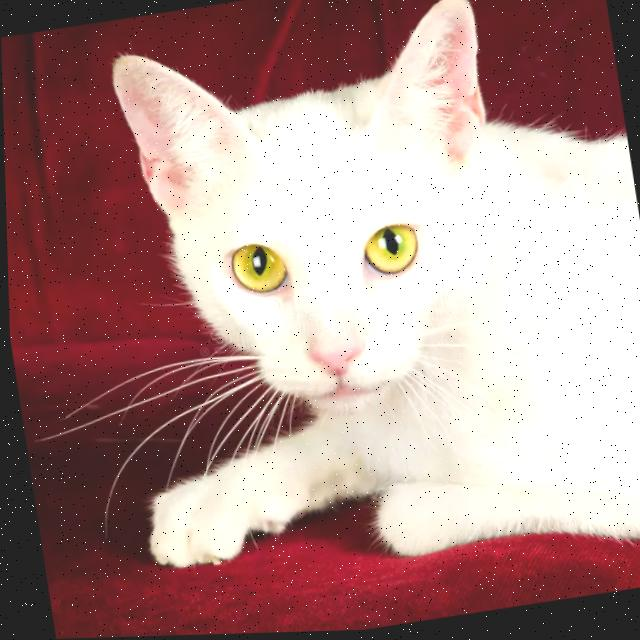Khao Manee: (66, 0, 640, 636)
